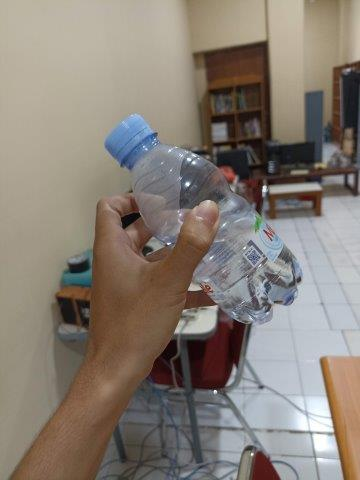botolplastik: (105, 112, 304, 324)
